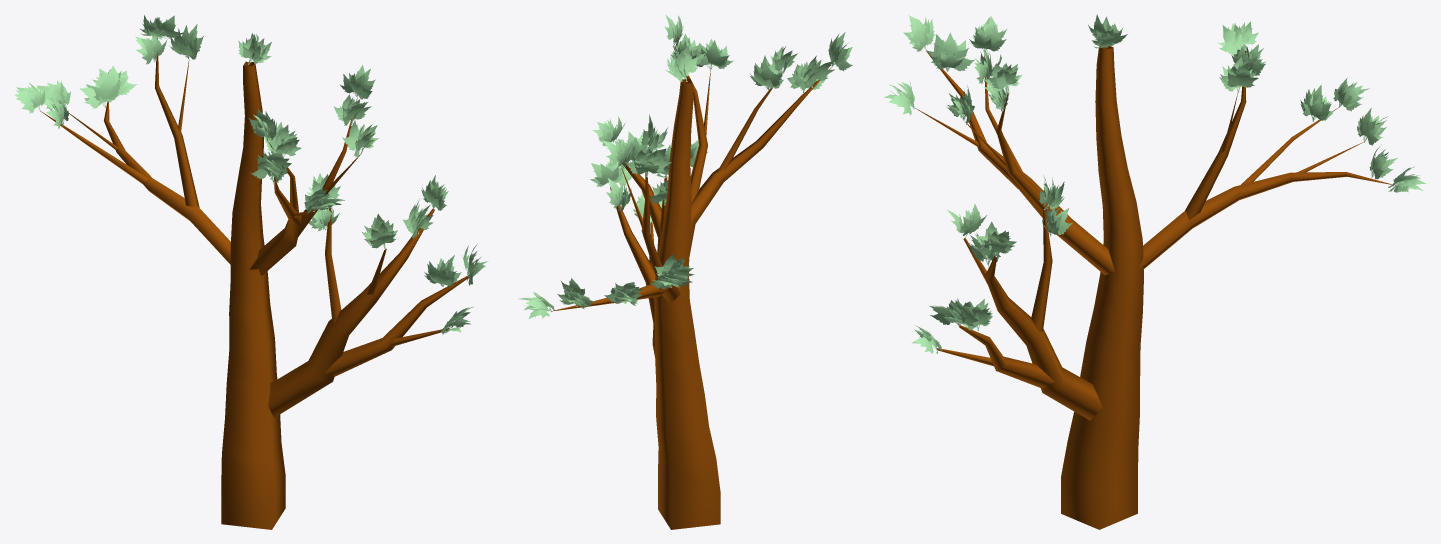
The model's file is FinalTree22.fbx.
3 renders of one model, left to right at view 1: azimuth 30°, elevation 25°; view 2: azimuth 150°, elevation 25°; view 3: azimuth 270°, elevation 25°, orthographic. The views are drawn at different scales.
Visible parts, largest first — view 1: Árbol; view 2: Árbol; view 3: Árbol.
Boxes of the visible parts, left/top/right/bottom form: Árbol: left=40, top=38, right=467, bottom=529; Árbol: left=552, top=47, right=831, bottom=529; Árbol: left=915, top=46, right=1392, bottom=529.
Size of the model in its own units: 294 by 480 by 473.
